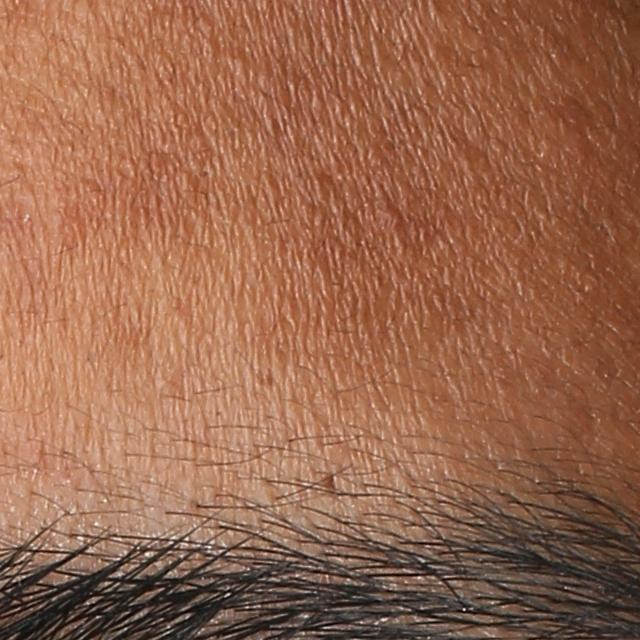nevus: (321, 469, 344, 497)
